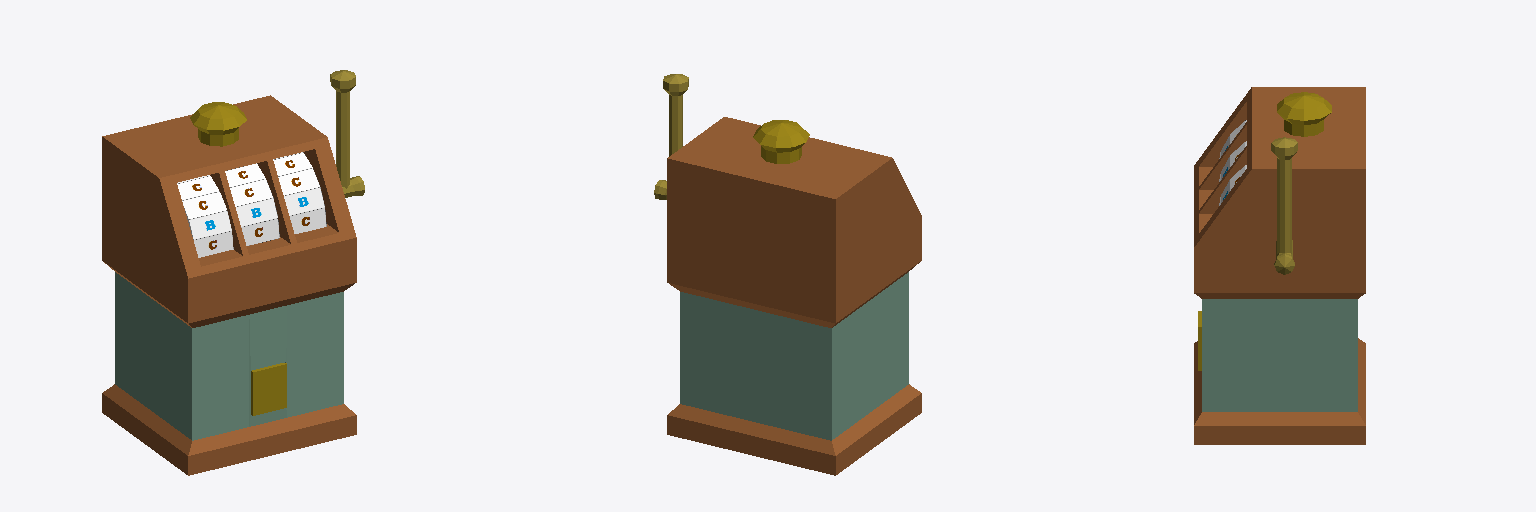
The picture shows the model from 3 angles: view 1: azimuth 30°, elevation 25°; view 2: azimuth 150°, elevation 25°; view 3: azimuth 270°, elevation 25°; orthographic projection.
Parts seen in each view (by area): view 1: Object__19, Object__15, Object__0.002, Object__0, Object__0.001, Object__11, Object__13, Object__9, Object__17; view 2: Object__19, Object__15, Object__11, Object__9, Object__17; view 3: Object__19, Object__15, Object__11, Object__9.
Part boxes in pixels (bbox=[...]): Object__19: bbox=[102, 95, 356, 475]; Object__15: bbox=[115, 272, 343, 440]; Object__0.002: bbox=[177, 175, 233, 257]; Object__0: bbox=[225, 163, 279, 245]; Object__0.001: bbox=[273, 152, 326, 233]; Object__11: bbox=[330, 70, 364, 197]; Object__13: bbox=[251, 363, 286, 415]; Object__9: bbox=[190, 102, 246, 146]; Object__17: bbox=[207, 112, 246, 134]; Object__19: bbox=[667, 117, 921, 475]; Object__15: bbox=[680, 272, 908, 440]; Object__11: bbox=[654, 74, 688, 199]; Object__9: bbox=[753, 120, 809, 163]; Object__17: bbox=[753, 129, 805, 152]; Object__19: bbox=[1194, 87, 1365, 444]; Object__15: bbox=[1202, 299, 1357, 411]; Object__11: bbox=[1271, 137, 1297, 274]; Object__9: bbox=[1284, 92, 1323, 136].
Size of the model in its own units: 1.39 by 1.94 by 0.939.
Materials: 7 (2 with a texture image).